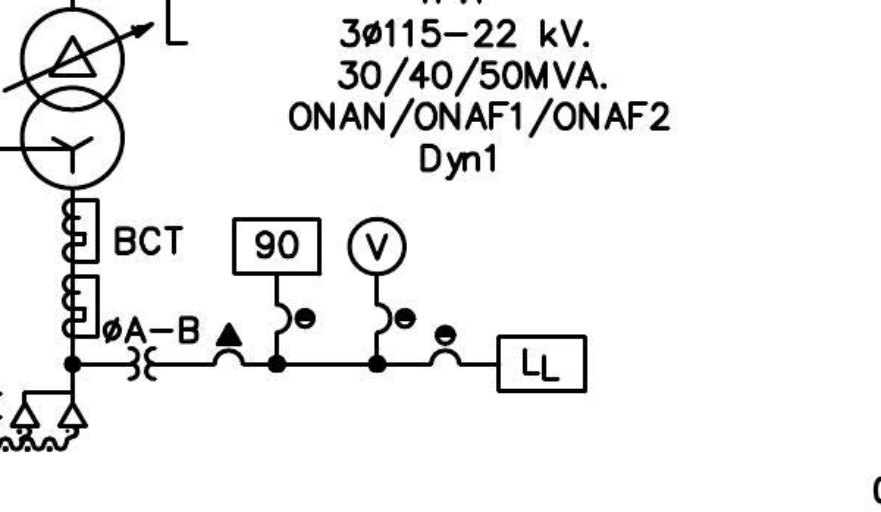11522_tx_dyn1: (19, 6, 126, 192)
LL: (495, 333, 589, 394)
terminator_double: (9, 389, 89, 429)
v_m: (345, 215, 408, 277)
